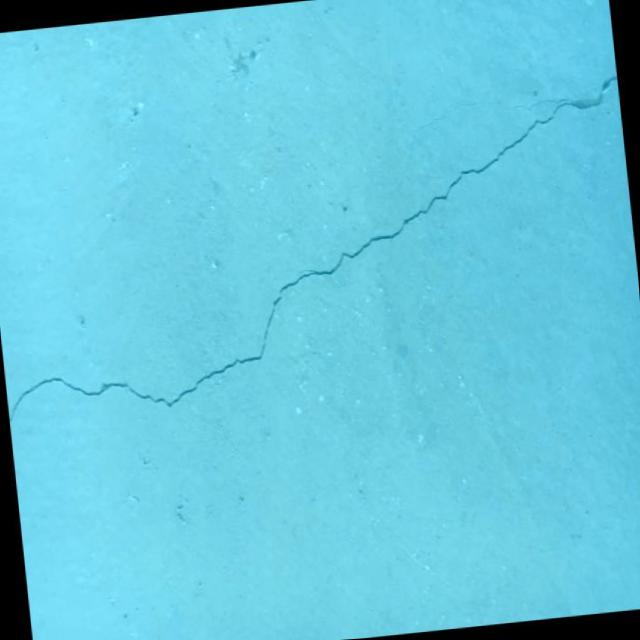crack: (0, 74, 640, 424), (461, 99, 500, 108)
